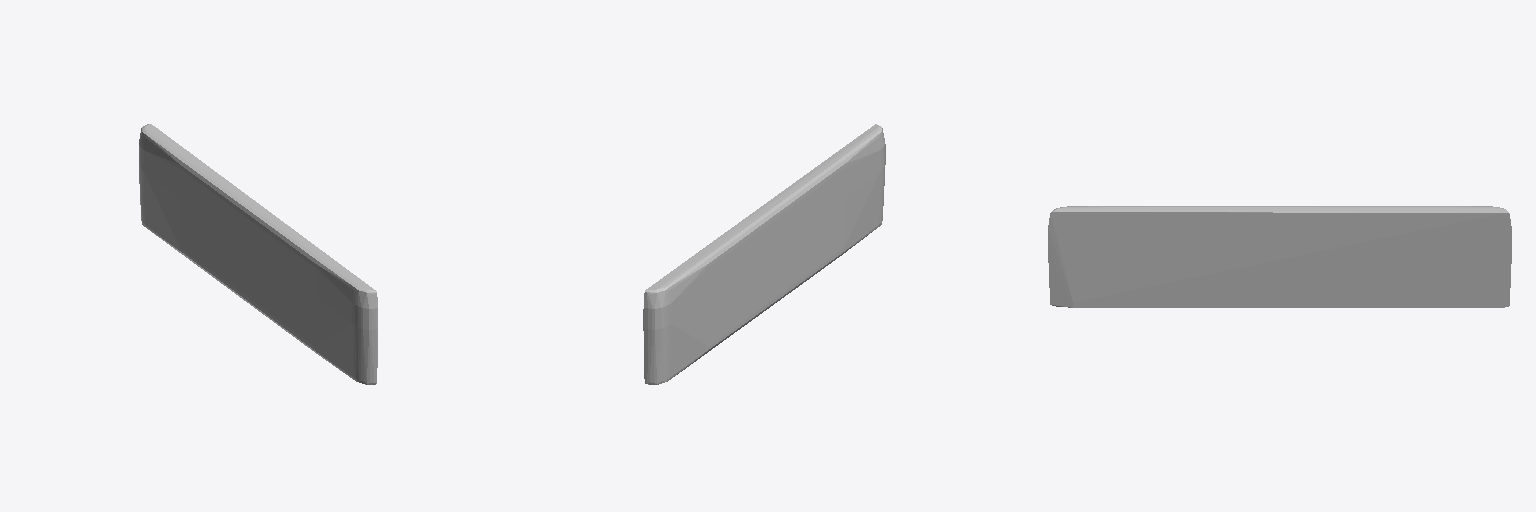
The model's file is plastic_box_collision_2.obj.
3 views of the same model, side by side, from view 1: azimuth 30°, elevation 25°; view 2: azimuth 150°, elevation 25°; view 3: azimuth 270°, elevation 25° (orthographic).
Size of the model in its own units: 0.0373 by 0.1996 by 0.8788.